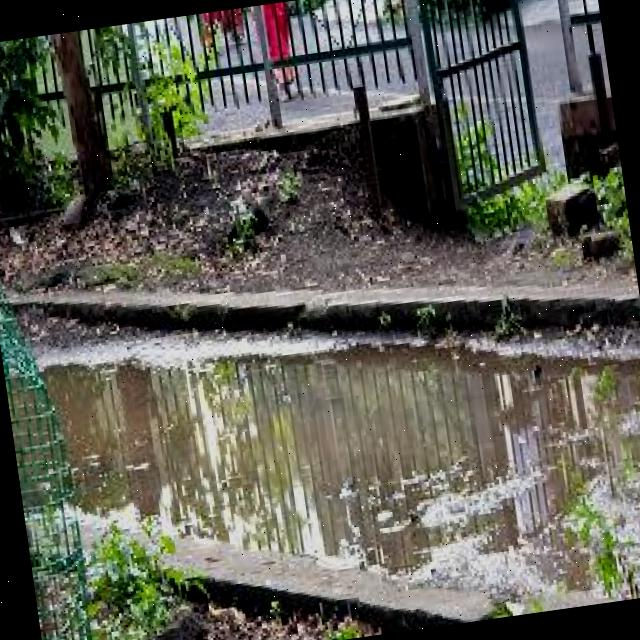stagnation: (124, 348, 460, 518)
